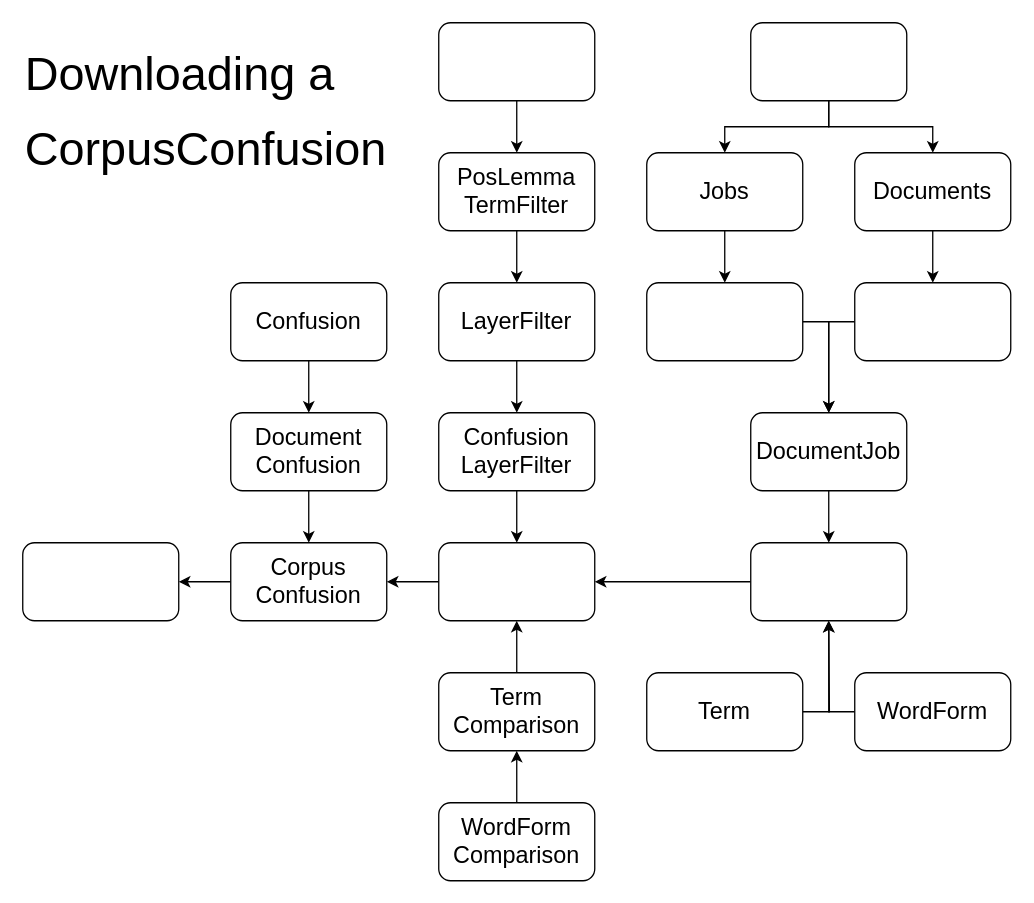
Image size: 1034x903. Some labels were removed from this diagram. The centre of each missing label's shape, as x and y in pixels:
"Corpus" goes at pixel 828 61.
"Document" goes at pixel 932 321.
"Evaluation Controller" goes at pixel 100 581.
"Job" goes at pixel 724 321.
"Layer" goes at pixel 828 581.
"Layer Comparison" goes at pixel 516 581.
"TermFilter" goes at pixel 516 61.
